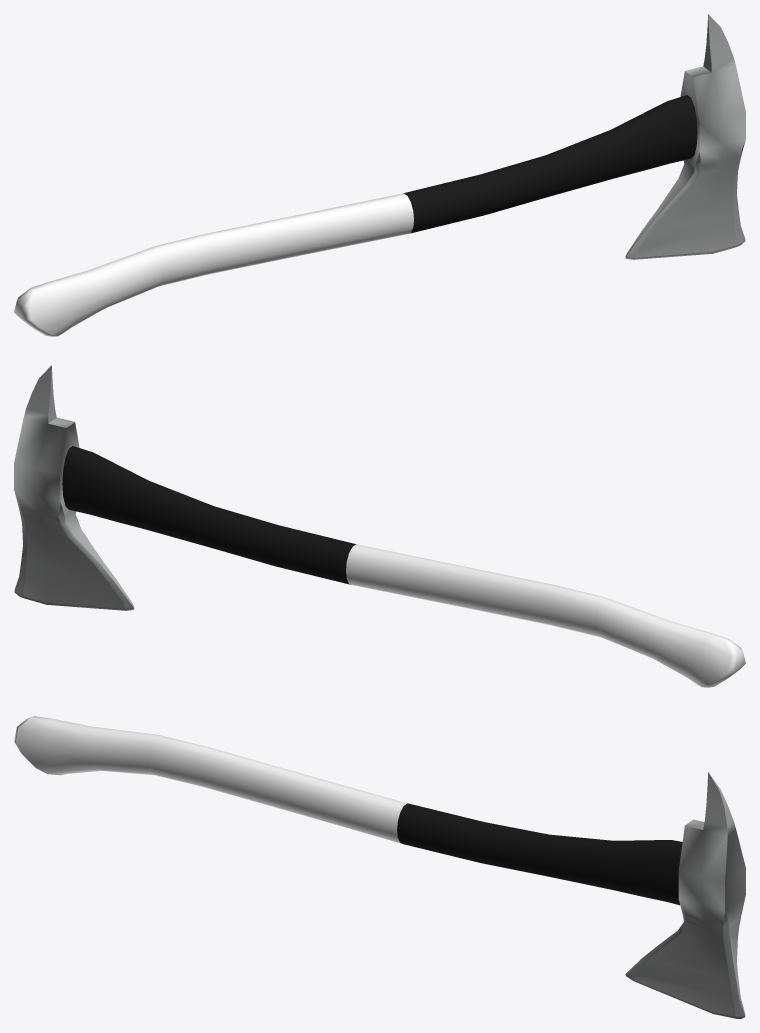
File: Axe_Mesh.fbx
The picture shows the model from 3 angles, top to bottom: view 1: azimuth 30°, elevation 25°; view 2: azimuth 150°, elevation 25°; view 3: azimuth 330°, elevation 25°; orthographic projection.
Parts seen in each view (by area): view 1: Axe; view 2: Axe; view 3: Axe.
Part boxes in pixels (x1,y1,x2,y2): Axe: (14,14,745,336); Axe: (14,365,745,687); Axe: (14,716,745,1018).
Size of the model in its own units: 0.6968 by 0.2211 by 0.0355.
